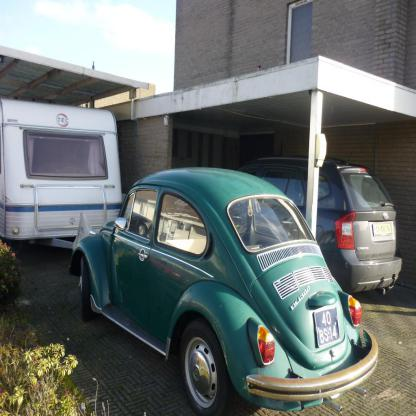Car: (75, 163, 378, 416), (241, 157, 403, 297)
